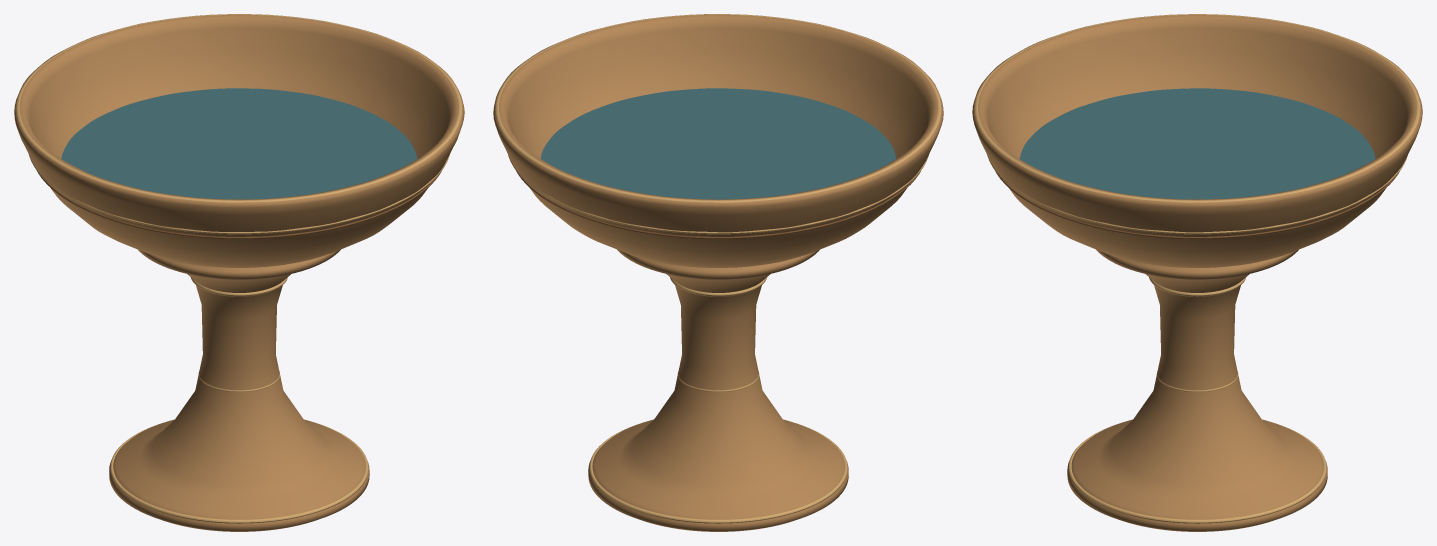
The model's file is laver.glb.
The picture shows the model from 3 angles, left to right: view 1: azimuth 30°, elevation 25°; view 2: azimuth 150°, elevation 25°; view 3: azimuth 270°, elevation 25°; orthographic projection.
Parts seen in each view (by area): view 1: Basin • continuous thick inner and outer wall, Stand • foot stem and support, Water • removable interpretive surface, Rolled lip, Stand foot rolled rim, Under-rim raised bead, Under-rim recessed band; view 2: Basin • continuous thick inner and outer wall, Stand • foot stem and support, Water • removable interpretive surface, Rolled lip, Stand foot rolled rim, Under-rim raised bead, Under-rim recessed band; view 3: Basin • continuous thick inner and outer wall, Stand • foot stem and support, Water • removable interpretive surface, Rolled lip, Stand foot rolled rim, Under-rim raised bead, Under-rim recessed band.
Part boxes in pixels (box(x1,y1,x2,y2)): Basin • continuous thick inner and outer wall: box(14, 14, 464, 267); Stand • foot stem and support: box(109, 249, 369, 531); Water • removable interpretive surface: box(61, 88, 417, 199); Rolled lip: box(16, 14, 462, 202); Stand foot rolled rim: box(110, 424, 368, 523); Under-rim raised bead: box(29, 154, 449, 234); Under-rim recessed band: box(37, 171, 441, 238); Basin • continuous thick inner and outer wall: box(493, 14, 943, 267); Stand • foot stem and support: box(588, 249, 848, 531); Water • removable interpretive surface: box(540, 88, 896, 199); Rolled lip: box(495, 14, 941, 202); Stand foot rolled rim: box(589, 425, 847, 523); Under-rim raised bead: box(508, 155, 928, 234); Under-rim recessed band: box(516, 171, 920, 238); Basin • continuous thick inner and outer wall: box(972, 14, 1422, 267); Stand • foot stem and support: box(1067, 249, 1327, 531); Water • removable interpretive surface: box(1019, 88, 1375, 199); Rolled lip: box(974, 14, 1420, 202); Stand foot rolled rim: box(1068, 425, 1326, 523); Under-rim raised bead: box(987, 155, 1407, 234); Under-rim recessed band: box(995, 171, 1399, 238).
Size of the model in its own units: 1.04 by 0.949 by 1.04.
